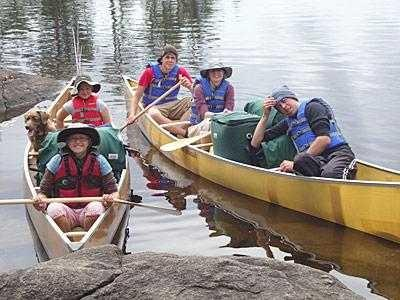kayak: (122, 78, 398, 241), (22, 142, 133, 258)
